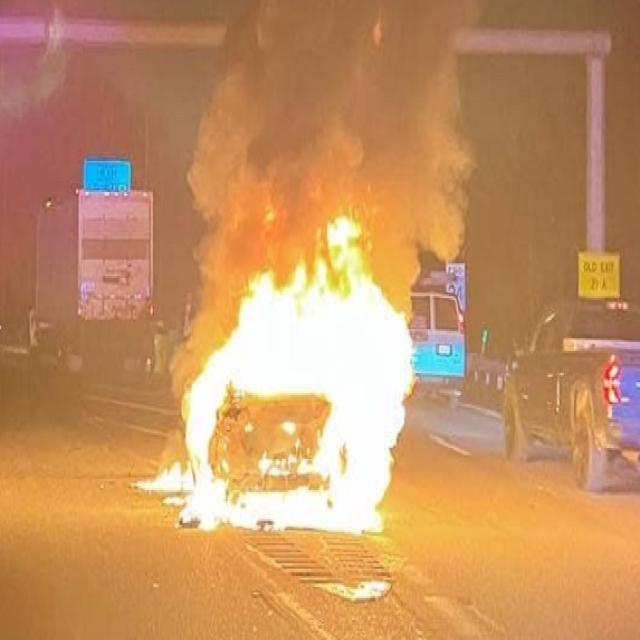Fire: (166, 236, 420, 581)
Smoke: (152, 0, 496, 294)
